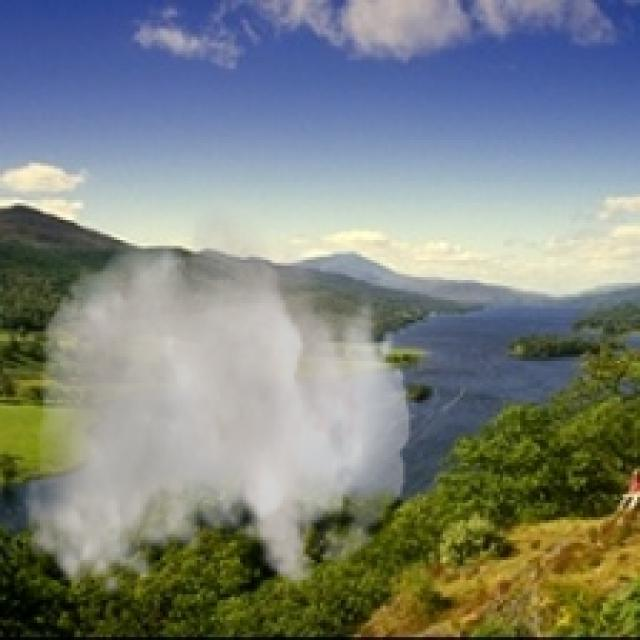smoke: (23, 186, 411, 600)
